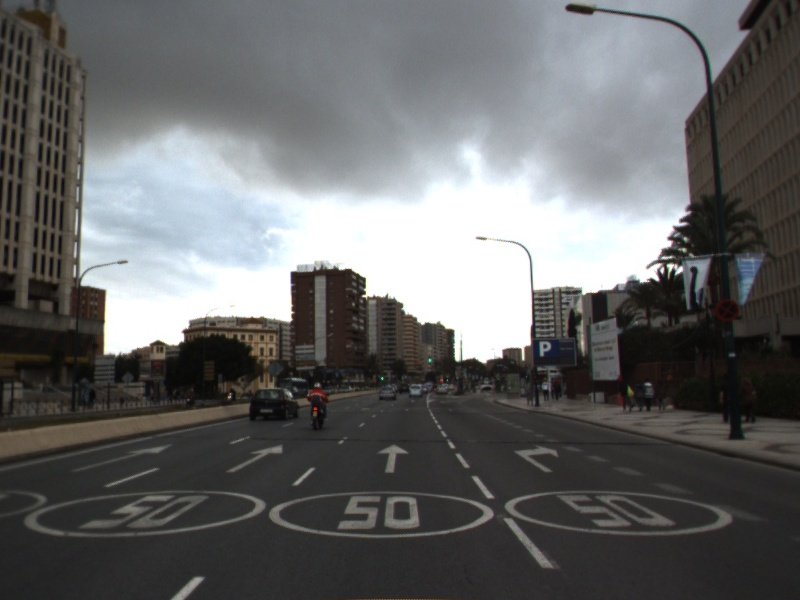RIGHT: (511, 442, 561, 474)
STRAIGHT: (69, 442, 176, 474), (223, 442, 285, 474), (374, 442, 412, 475)
